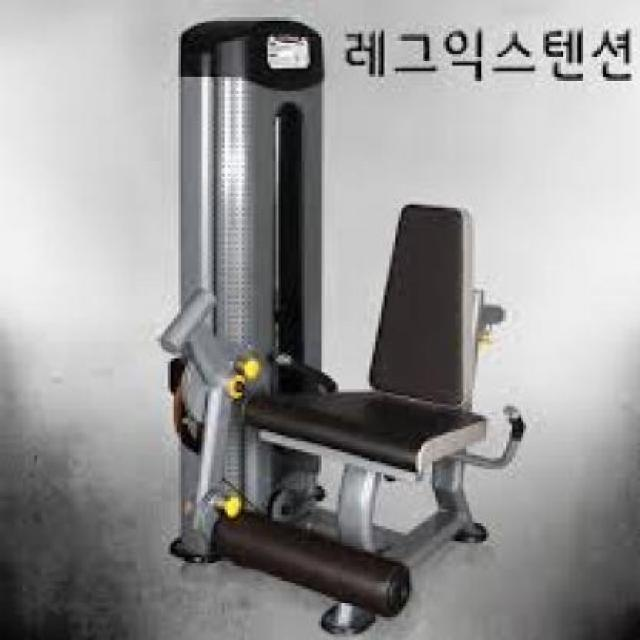leg extension: (119, 9, 542, 640)
